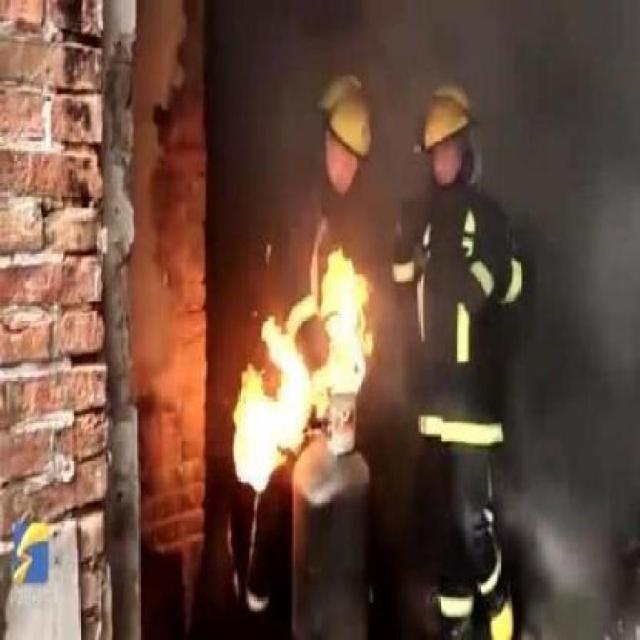Fire: (229, 240, 374, 494)
